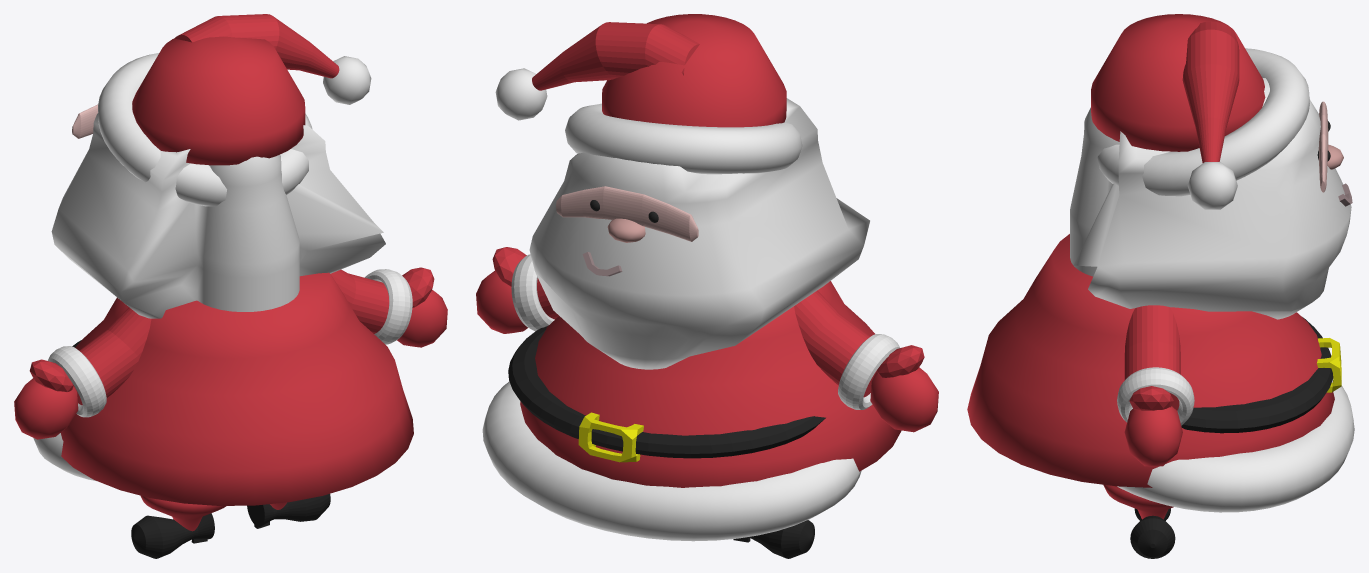
File: Santa.glb
3 renders of one model, left to right at view 1: azimuth 30°, elevation 25°; view 2: azimuth 150°, elevation 25°; view 3: azimuth 270°, elevation 25°, orthographic. The views are drawn at different scales.
Parts seen in each view (by area): view 1: Cylinder.162, Cylinder.166, Cylinder.168, Torus.020, Cylinder.163, Icosphere.279, Cylinder.169, Torus.018, Cylinder.165, Icosphere.280, Icosphere.282, Cylinder.164 (+2 smaller); view 2: Cylinder.166, Cylinder.162, Torus.017, Cylinder.168, Torus.020, Torus.019, Cylinder.169, Icosphere.279, Torus.018, Cylinder.163, Cylinder.167, Icosphere.282 (+4 smaller); view 3: Cylinder.162, Cylinder.166, Cylinder.168, Torus.017, Torus.020, Cylinder.169, Torus.019, Cylinder.163, Icosphere.279, Torus.018, Icosphere.282, Cylinder.165 (+4 smaller).
Part boxes in pixels (left/top/right/bottom): Cylinder.162: left=61, top=272, right=413, bottom=505; Cylinder.166: left=51, top=113, right=385, bottom=318; Cylinder.168: left=132, top=36, right=305, bottom=165; Torus.020: left=98, top=53, right=312, bottom=206; Cylinder.163: left=74, top=269, right=389, bottom=405; Icosphere.279: left=14, top=290, right=447, bottom=439; Cylinder.169: left=174, top=14, right=339, bottom=78; Torus.018: left=47, top=269, right=412, bottom=417; Cylinder.165: left=131, top=494, right=330, bottom=558; Icosphere.280: left=29, top=267, right=434, bottom=391; Icosphere.282: left=323, top=56, right=371, bottom=104; Cylinder.164: left=140, top=495, right=286, bottom=531; Cylinder.166: left=529, top=98, right=869, bottom=369; Cylinder.162: left=520, top=281, right=901, bottom=487; Torus.017: left=482, top=381, right=861, bottom=541; Cylinder.168: left=602, top=14, right=786, bottom=127; Torus.020: left=565, top=103, right=802, bottom=174; Torus.019: left=508, top=326, right=825, bottom=458; Cylinder.169: left=532, top=22, right=699, bottom=90; Icosphere.279: left=476, top=271, right=938, bottom=432; Torus.018: left=511, top=254, right=899, bottom=409; Cylinder.163: left=537, top=278, right=876, bottom=397; Cylinder.167: left=556, top=186, right=698, bottom=241; Icosphere.282: left=495, top=68, right=547, bottom=120; Cylinder.162: left=967, top=234, right=1334, bottom=487; Cylinder.166: left=1070, top=78, right=1351, bottom=319; Cylinder.168: left=1091, top=14, right=1265, bottom=151; Torus.017: left=1117, top=379, right=1354, bottom=512; Torus.020: left=1097, top=48, right=1309, bottom=196; Cylinder.169: left=1182, top=21, right=1239, bottom=162; Torus.019: left=1181, top=317, right=1333, bottom=433; Cylinder.163: left=1124, top=305, right=1180, bottom=410; Icosphere.279: left=1124, top=406, right=1182, bottom=466; Torus.018: left=1117, top=367, right=1194, bottom=425; Icosphere.282: left=1187, top=162, right=1237, bottom=209; Cylinder.165: left=1130, top=508, right=1175, bottom=558.
Bounding box in the file's own units: 17.79 × 19.55 × 13.7.
